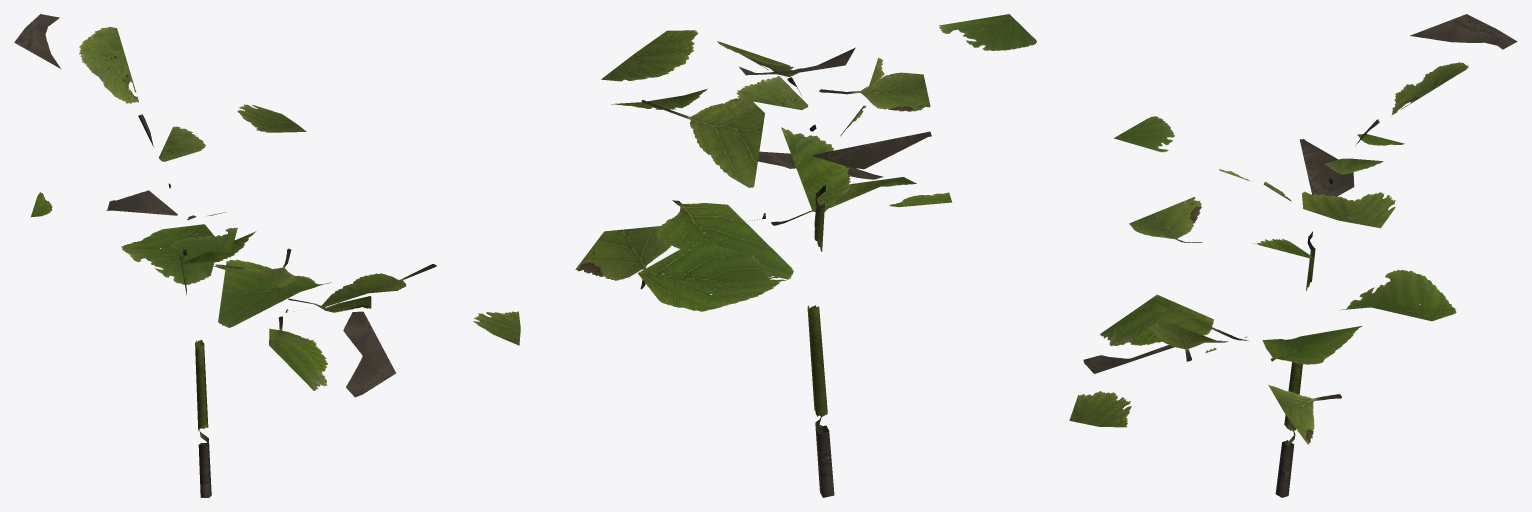
File: SM_BlackAlder_Seedling_01_PP_LOD2.gltf
The picture shows the model from 3 angles, left to right: view 1: azimuth 30°, elevation 25°; view 2: azimuth 150°, elevation 25°; view 3: azimuth 270°, elevation 25°; orthographic projection. The views are drawn at different scales.
Parts seen in each view (by area): view 1: SM_BlackAlder_Seedling_01_PP; view 2: SM_BlackAlder_Seedling_01_PP; view 3: SM_BlackAlder_Seedling_01_PP.
Boxes of the visible parts, left/top/right/bottom form: SM_BlackAlder_Seedling_01_PP: left=14, top=14, right=520, bottom=497; SM_BlackAlder_Seedling_01_PP: left=575, top=14, right=1036, bottom=497; SM_BlackAlder_Seedling_01_PP: left=1069, top=14, right=1517, bottom=497.
Bounding box in the file's own units: 0.3967 × 0.4167 × 0.3939.
1 material, 1 textured.
